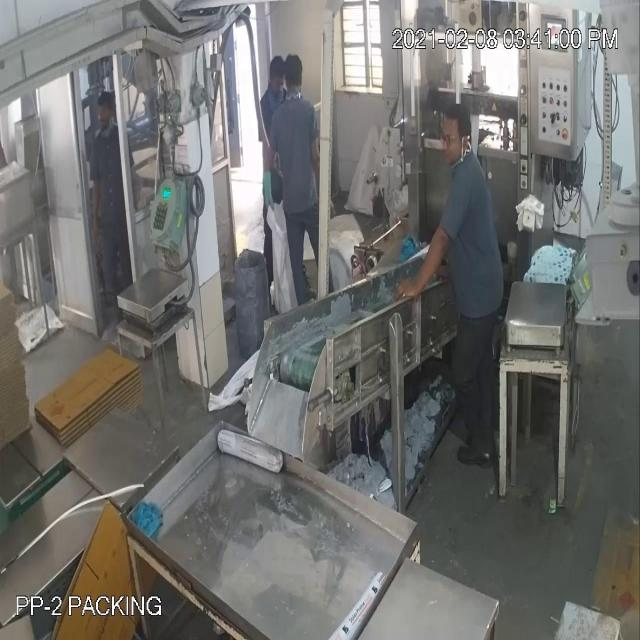No_Gloves: (393, 231, 453, 311)
